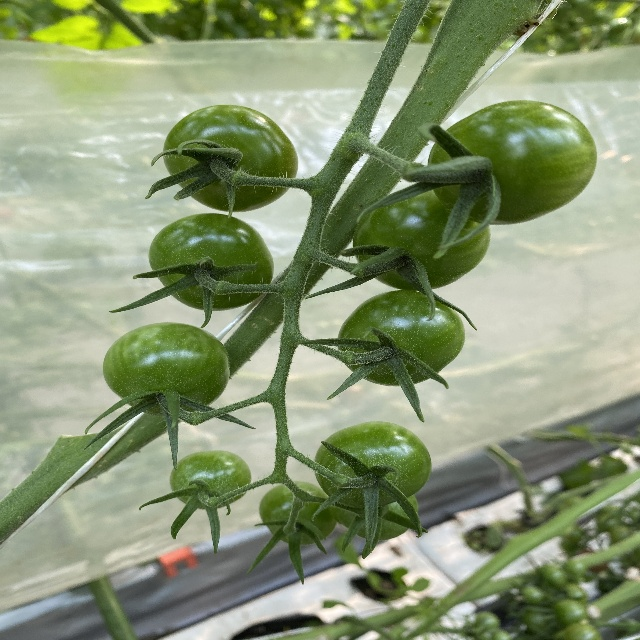l_green: (428, 100, 598, 224), (163, 104, 300, 213), (352, 189, 490, 291), (336, 290, 466, 387), (148, 214, 274, 311), (102, 322, 230, 416), (313, 421, 431, 511), (257, 481, 335, 546), (170, 451, 252, 509), (332, 495, 417, 541)
